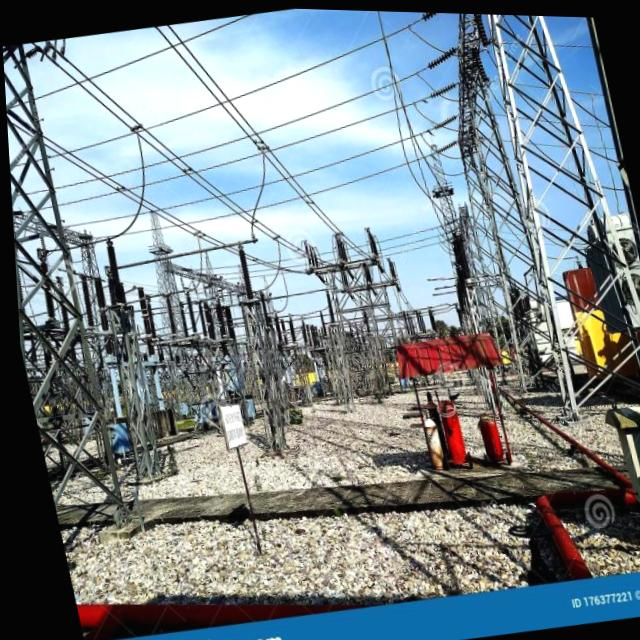FireExtinguisher: (423, 385, 467, 467), (464, 400, 508, 469)
